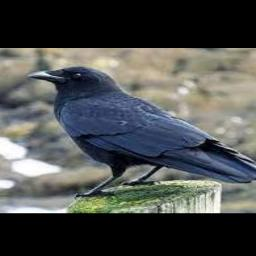Crow: (30, 65, 256, 198)
